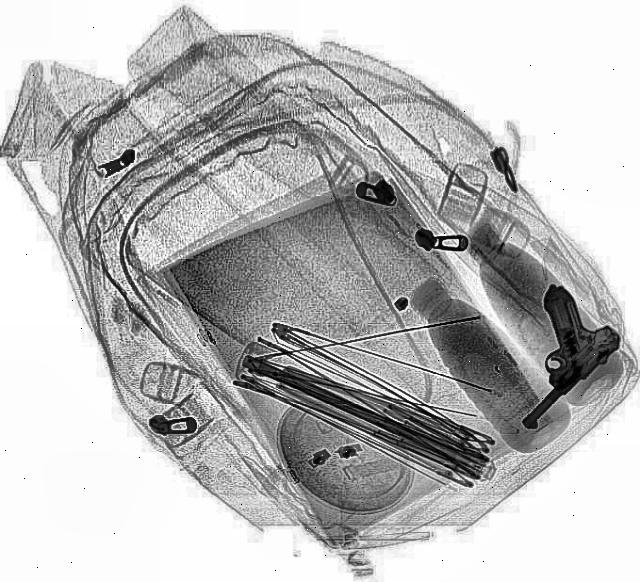Gun: (458, 280, 636, 432)
